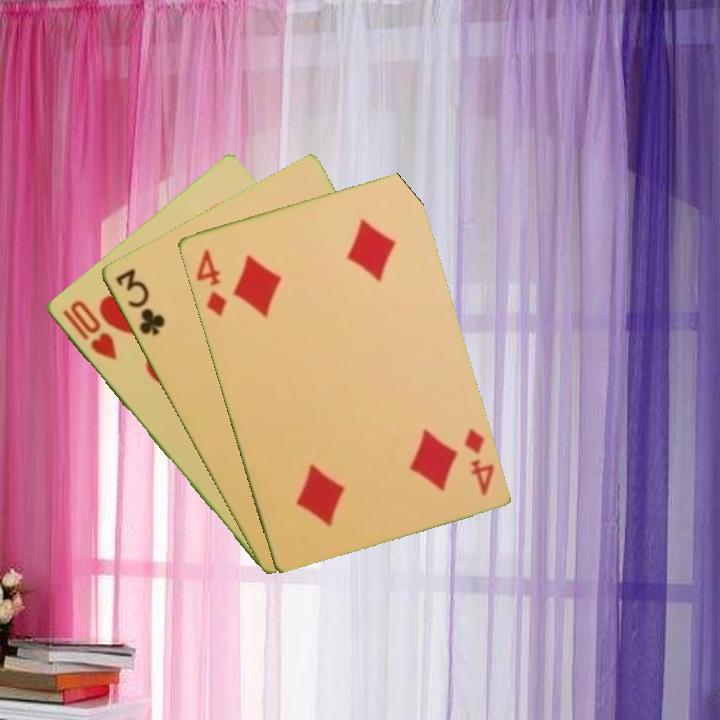10h: (58, 296, 119, 364)
3c: (111, 264, 168, 339)
4d: (460, 424, 497, 498), (192, 246, 229, 319)
